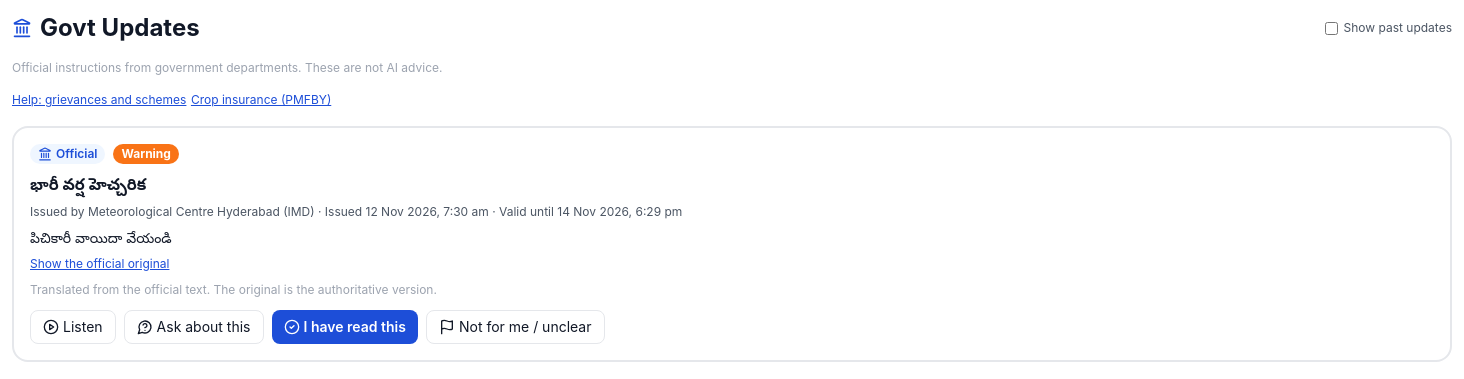
Test: Govt Updates inbox › shows an official, translated bulletin with authority and validity
Check: the heading "భారీ వర్ష హెచ్చరిక" is shown, box [30,174,146,194]
Check: the text "Official" is shown, box [30,144,105,164]
Click the button "Show the official original" at (100, 264), box [30,256,169,272]
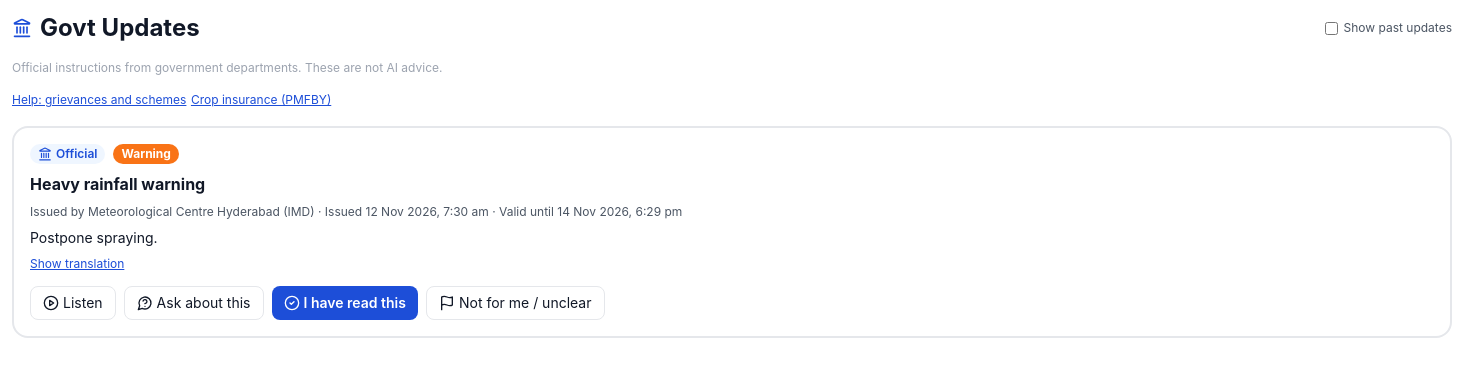
Check: the heading "Heavy rainfall warning" is shown, box [30,174,205,194]
